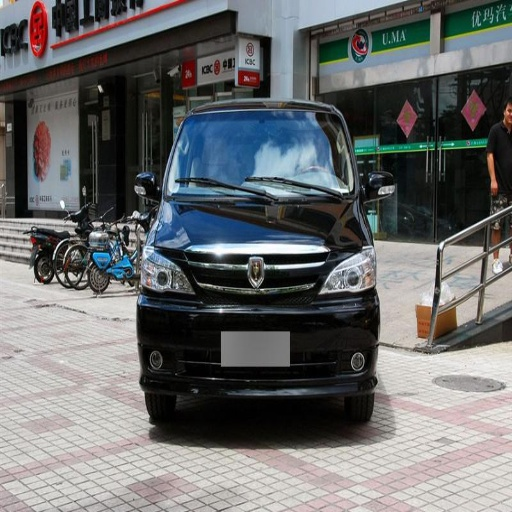front_bumper: (139, 243, 376, 399)
front_right_light: (141, 245, 190, 295)
hood: (153, 185, 362, 254)
